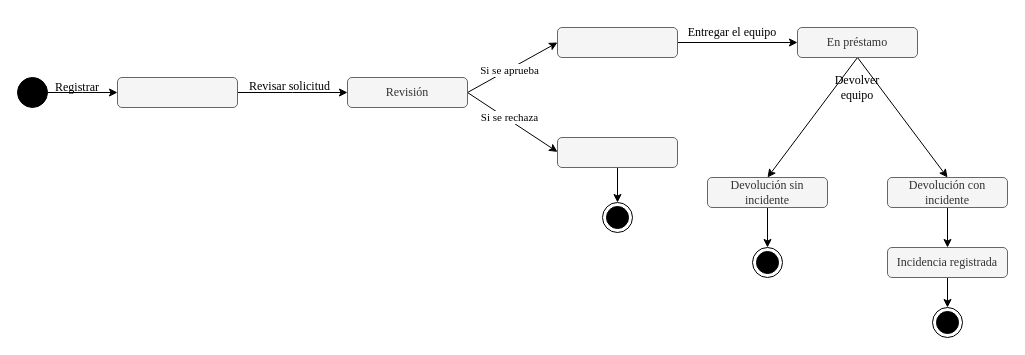
This 1025x355 diagram has some shape labels left out. The shapes that lost their labels are listed below. From the top down, each one's centre as x and y in pixels, then its label:
At [617,42]: "Aprobada".
At [177,92]: "Registrada".
At [617,152]: "Rechazada".
